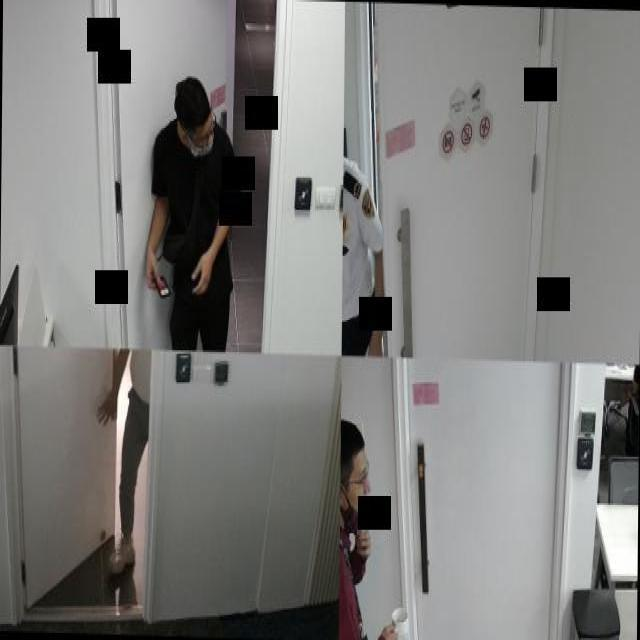hairnet: (346, 458, 372, 536), (194, 112, 214, 158)
